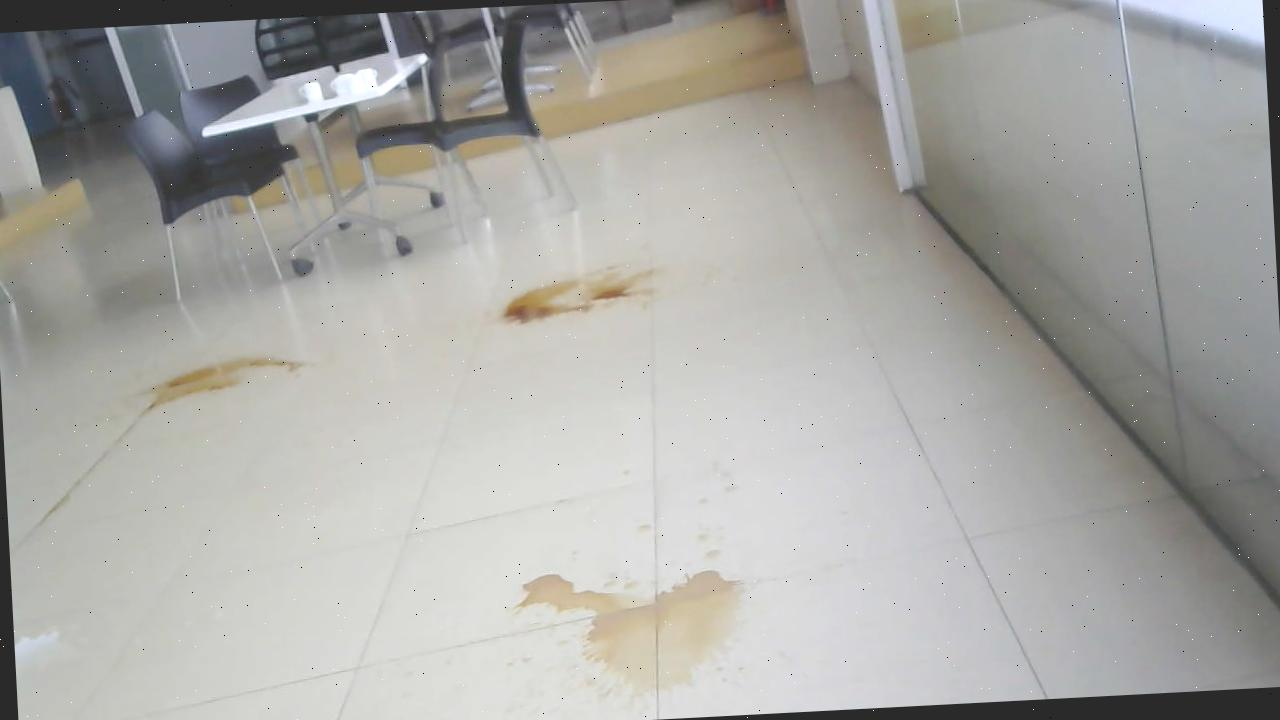dirty_floor: (504, 524, 758, 710), (492, 256, 674, 334), (136, 349, 316, 415), (13, 623, 73, 671)
